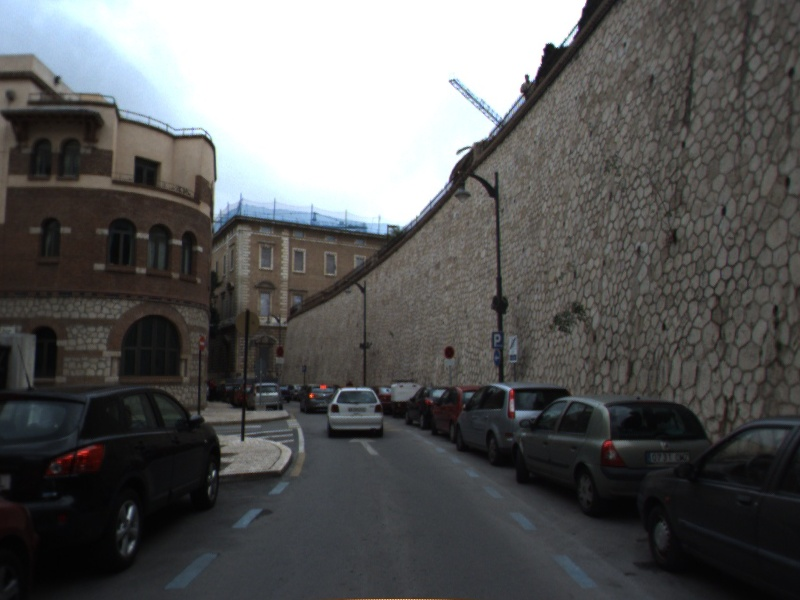STRAIGHT: (347, 435, 381, 457)
